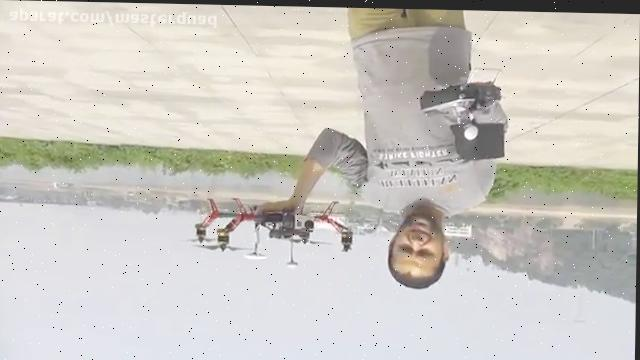drone: (181, 194, 357, 271)
